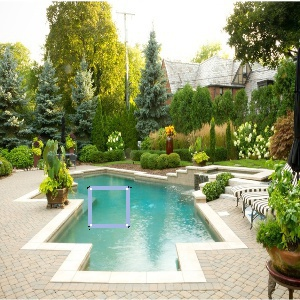square: (86, 184, 133, 231)
